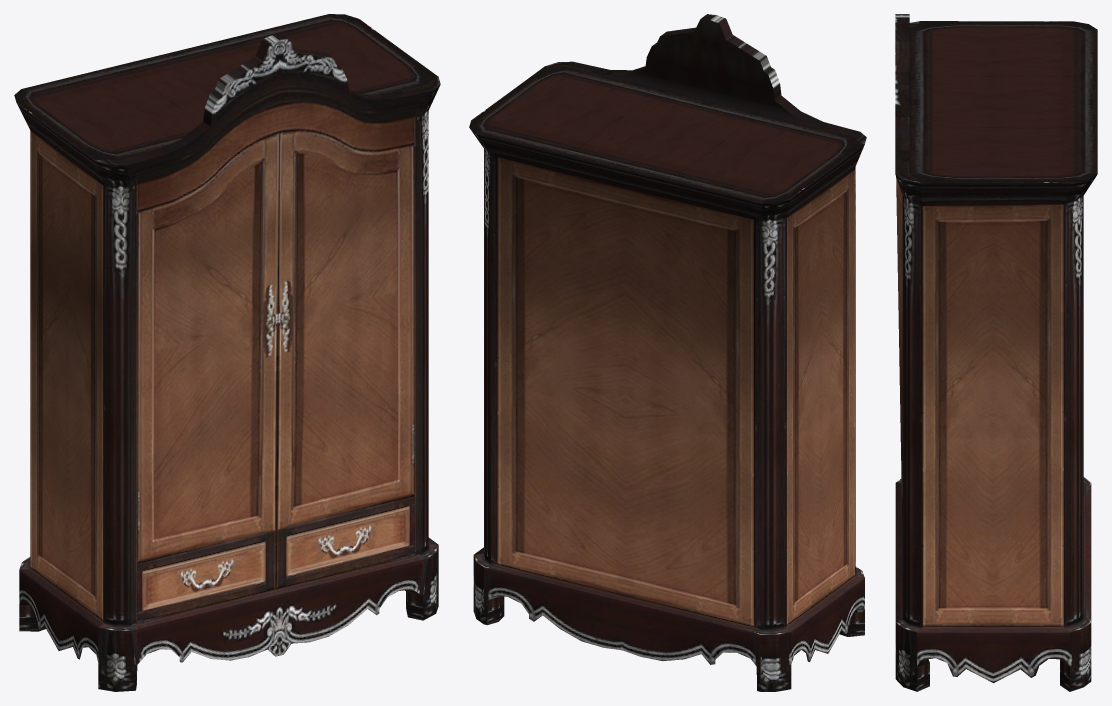
Rendered from furni_0201218.FBX.
The picture shows the model from 3 angles, left to right: view 1: azimuth 30°, elevation 25°; view 2: azimuth 150°, elevation 25°; view 3: azimuth 270°, elevation 25°; orthographic projection. The views are drawn at different scales.
Parts seen in each view (by area): view 1: furni_0201218; view 2: furni_0201218; view 3: furni_0201218.
Part boxes in pixels (box(x1,y1,x2,y2)): furni_0201218: box(14, 14, 440, 691); furni_0201218: box(469, 14, 866, 691); furni_0201218: box(895, 14, 1097, 691).
Bounding box in the file's own units: 169 × 290 × 89.31.
1 material, 1 textured.
